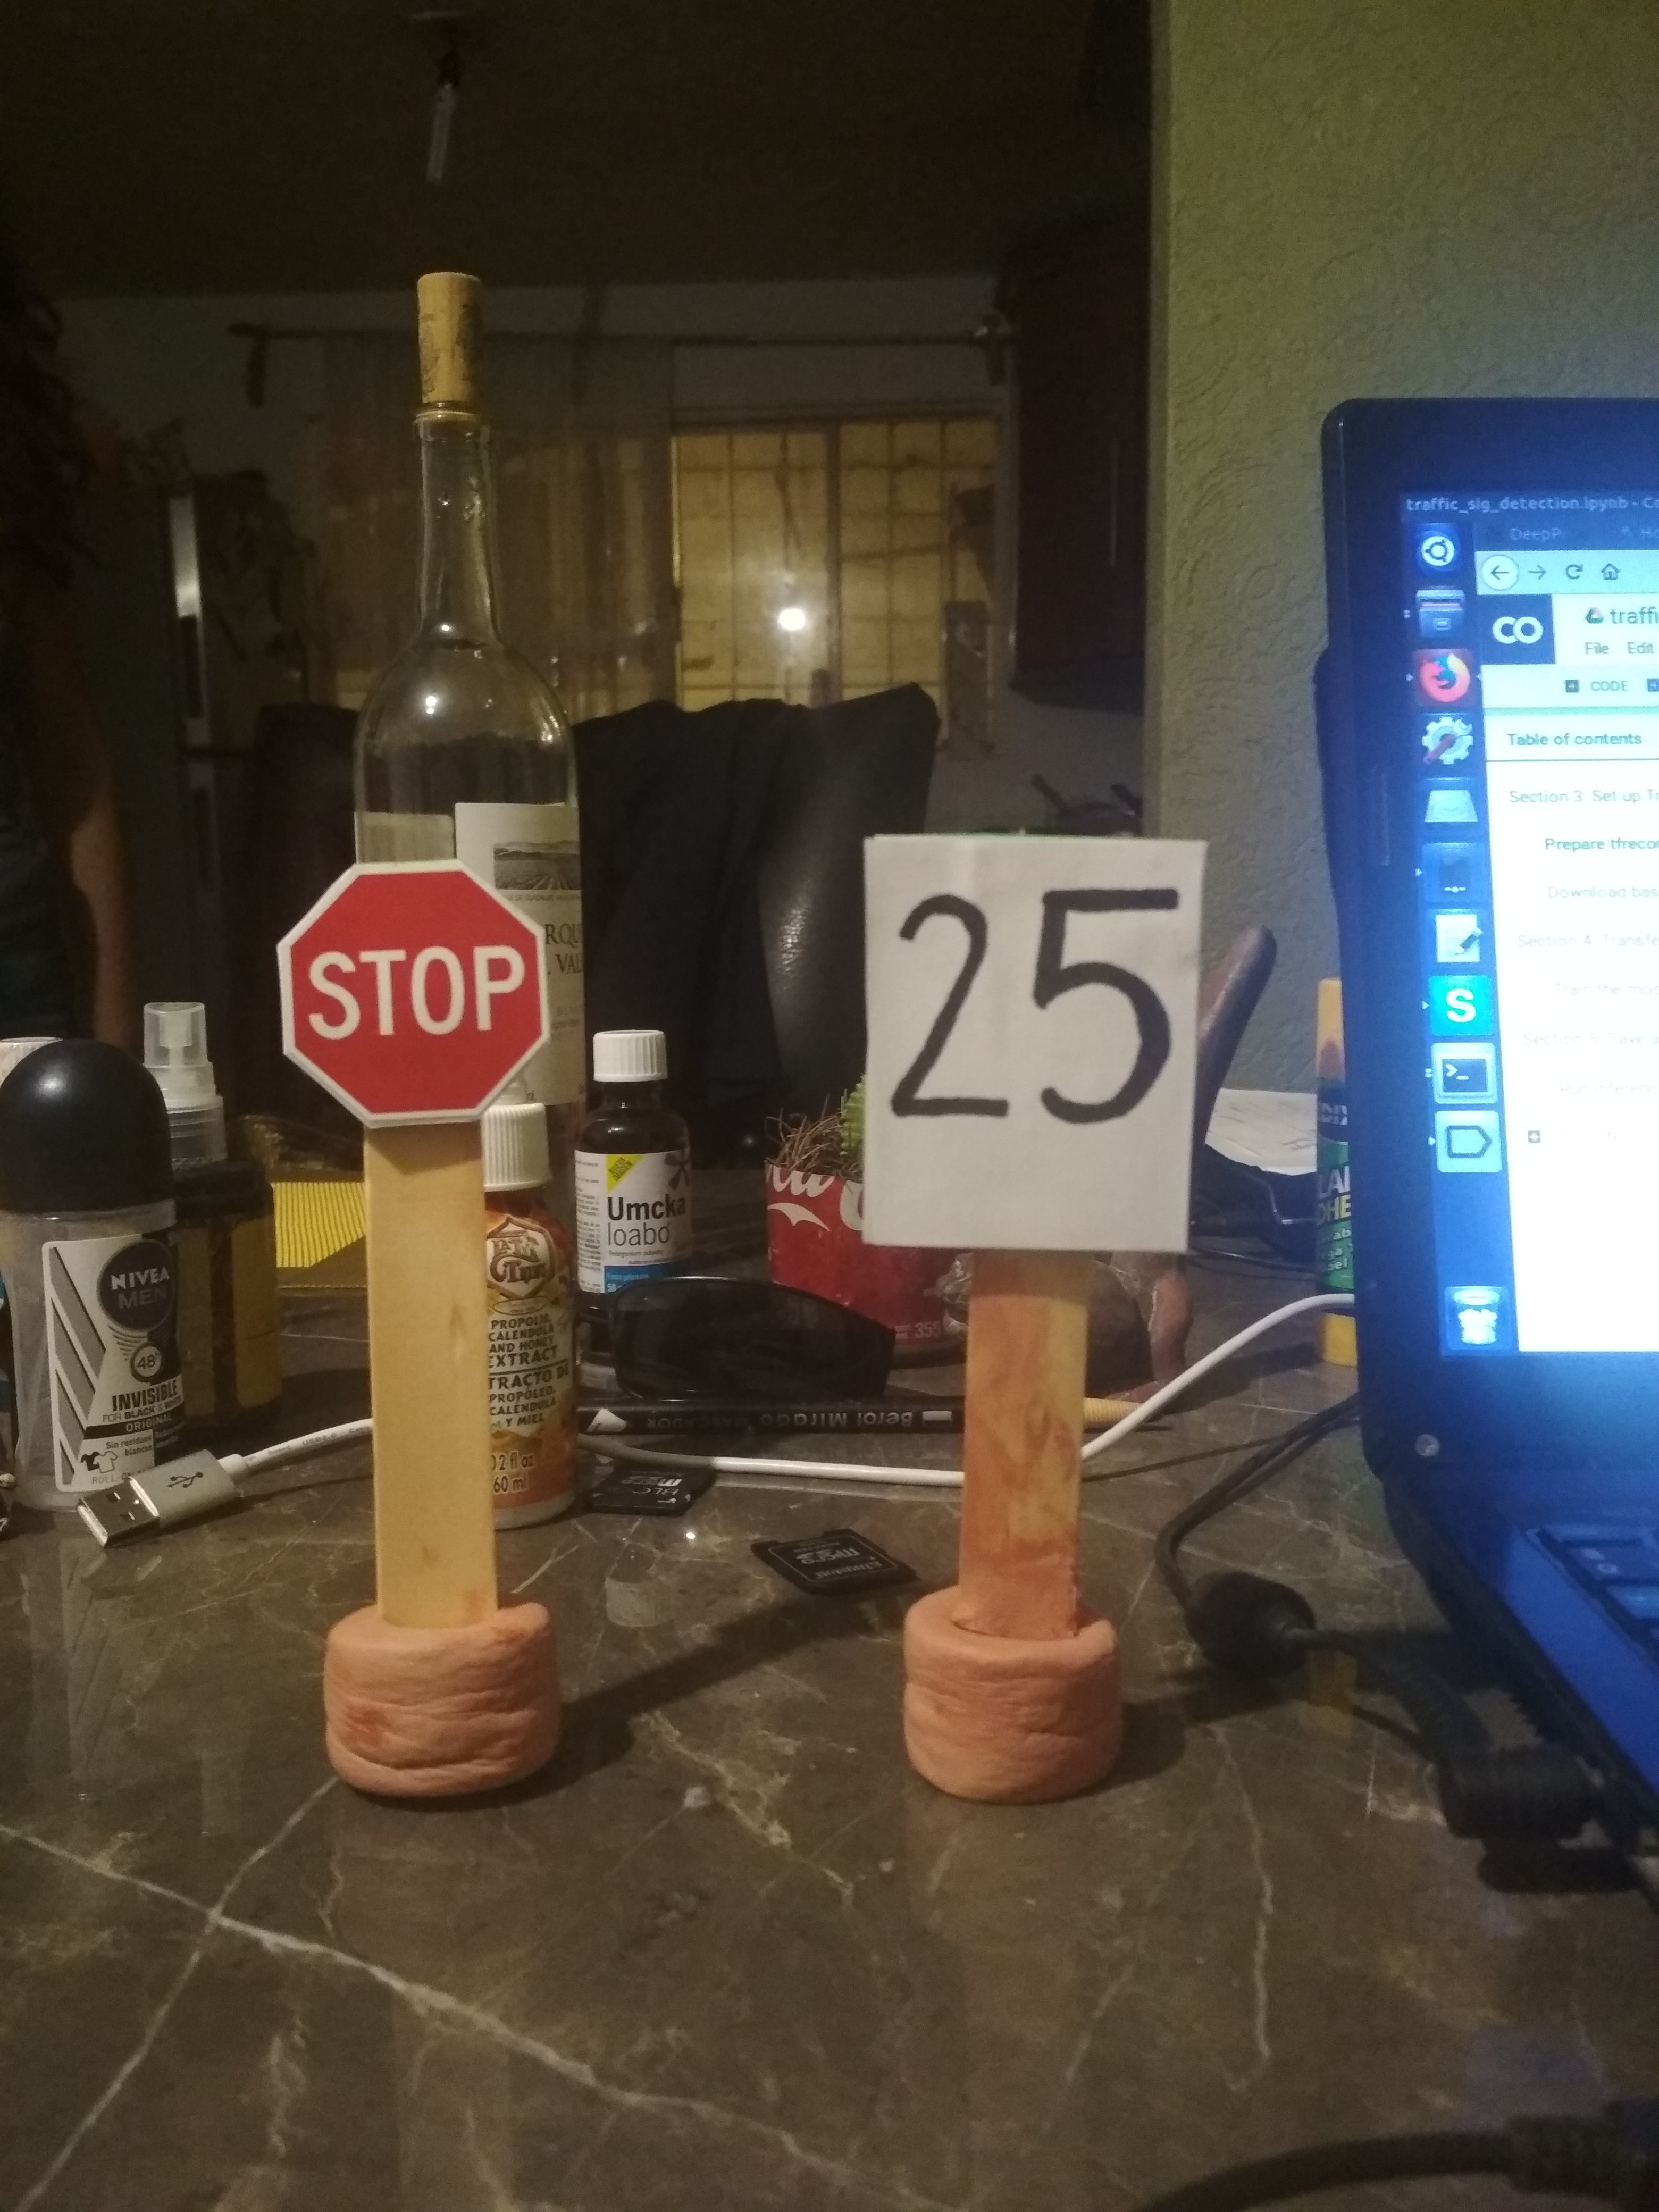Limit 25: (859, 819, 1202, 1258)
Stop: (267, 866, 563, 1123)
